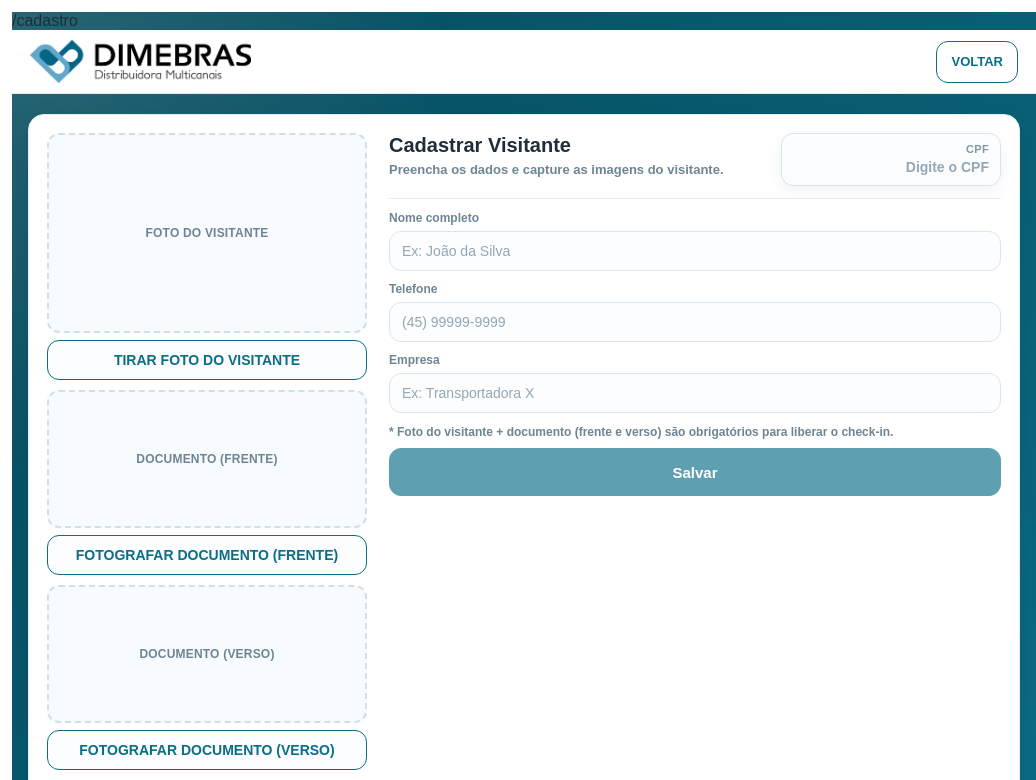
Test case: CadastroVisitante CPF feedback › remove o erro antigo quando o CPF invalido e corrigido
The image size is (1036, 780).
In the field labelled "CPF": (891, 167) [793,159,989,175], type "11111111111"
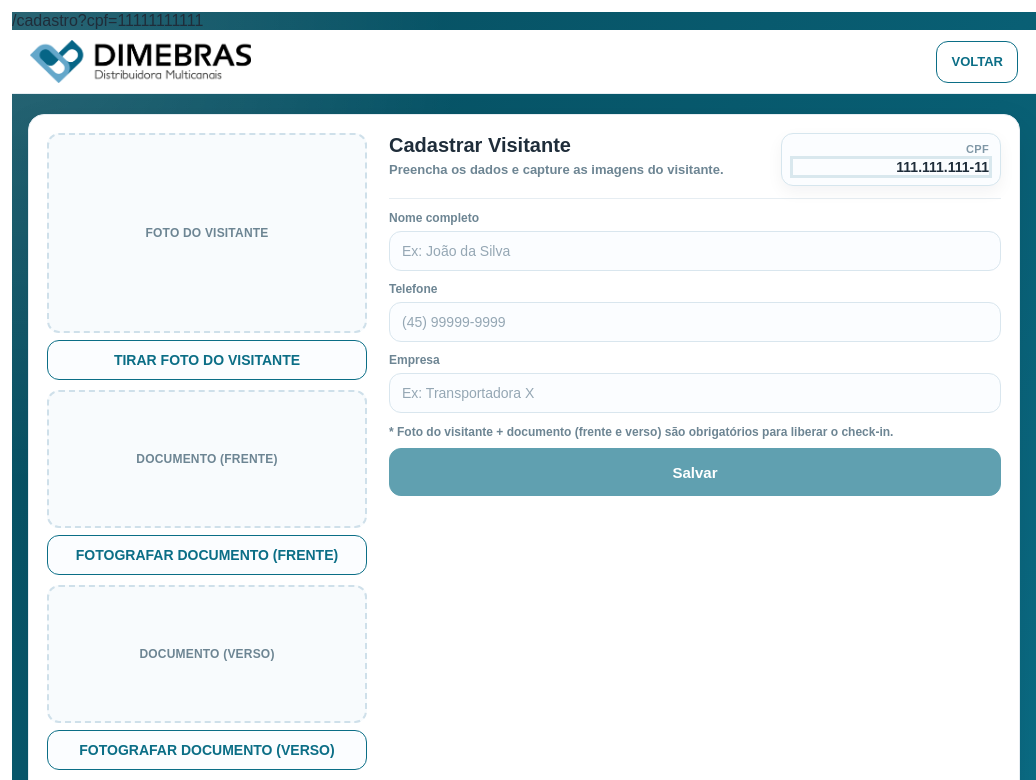
Press Tab
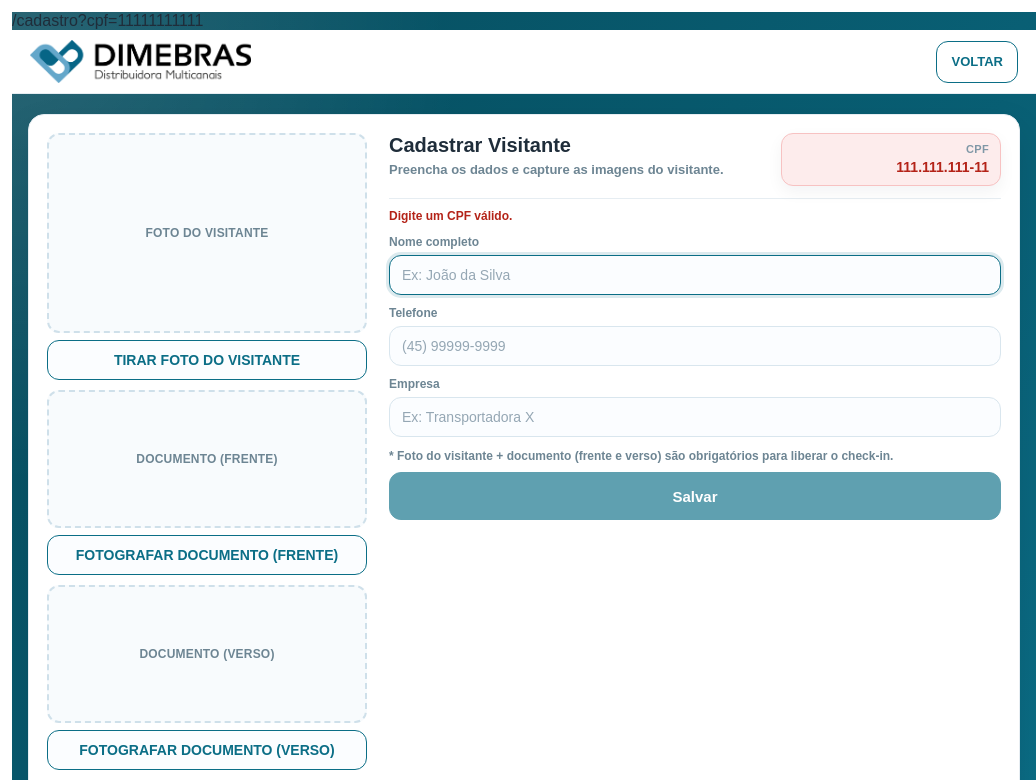
Expected: the text "Digite um CPF válido." is shown once, [389,209,512,223]
Replace the text in the field labelled "CPF" with "52998224725": (891, 167) [793,159,989,175]
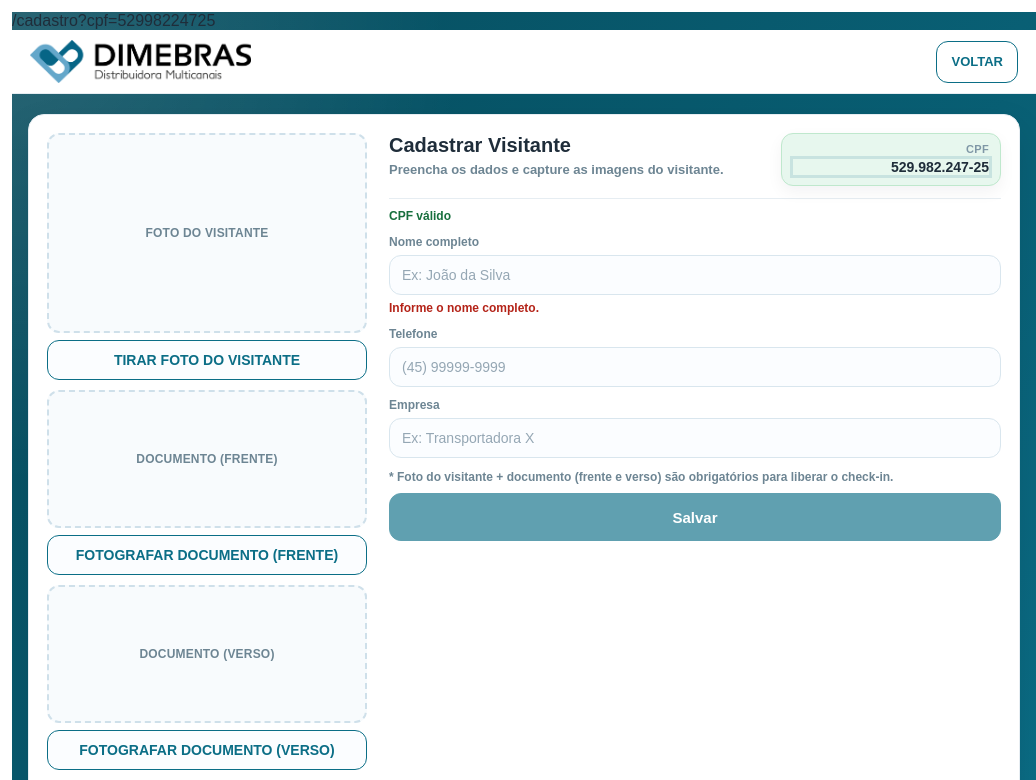
Expected: the text "Digite um CPF válido." is not shown
Expected: the text "CPF válido" is shown, [389,209,451,223]
